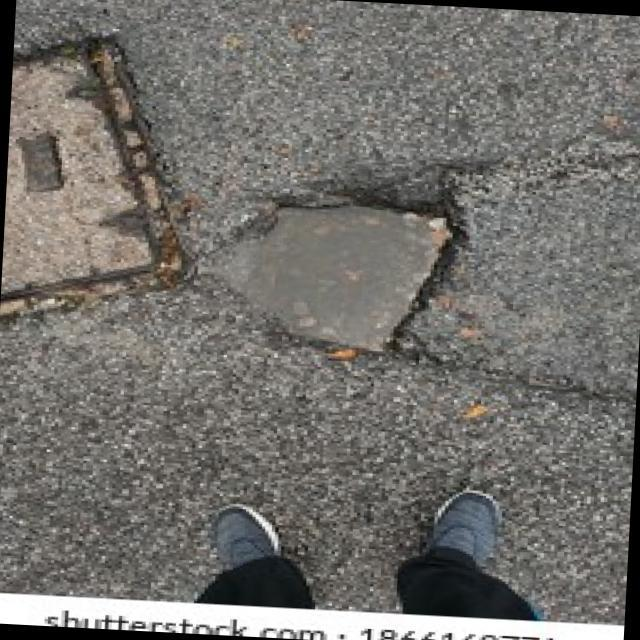Pothole: (197, 180, 475, 361)
